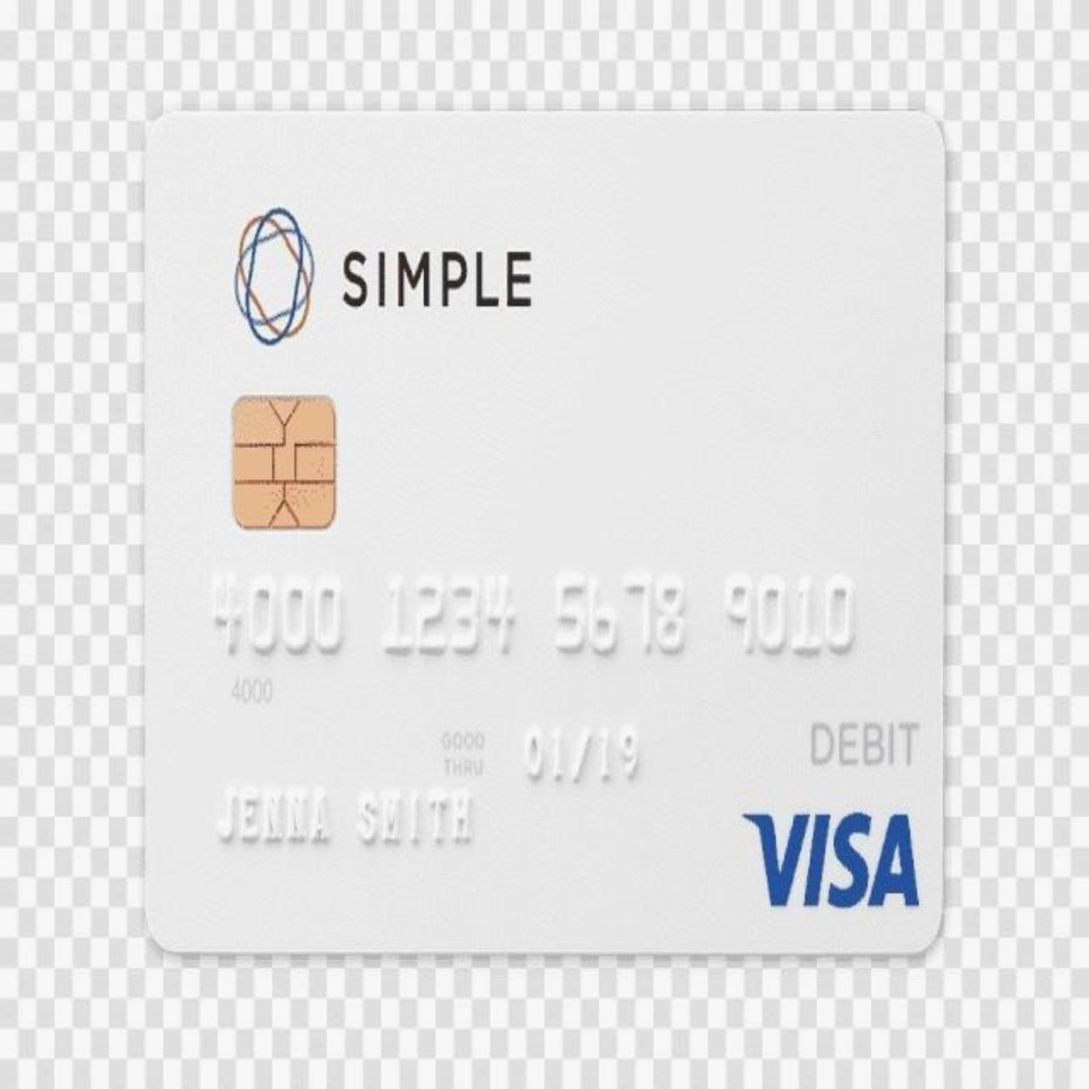credit_card: (140, 112, 949, 956)
